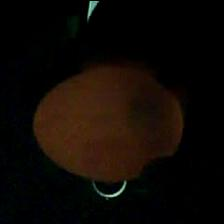fertile: (24, 64, 184, 186)
